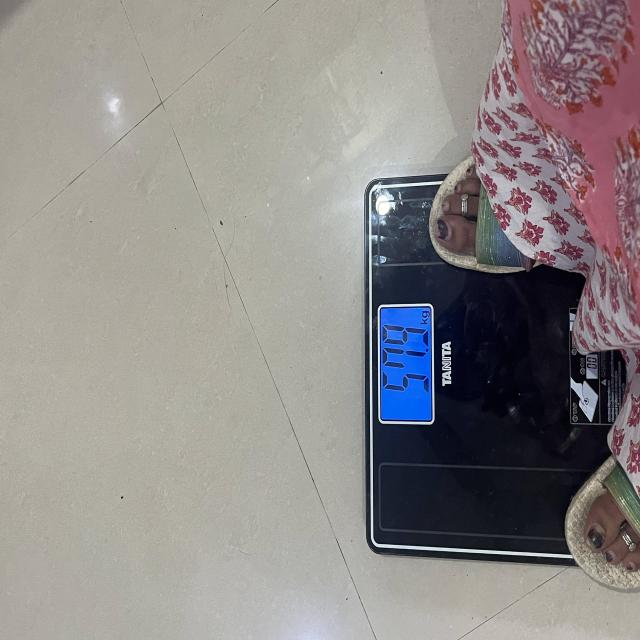ws: (363, 162, 640, 594)
